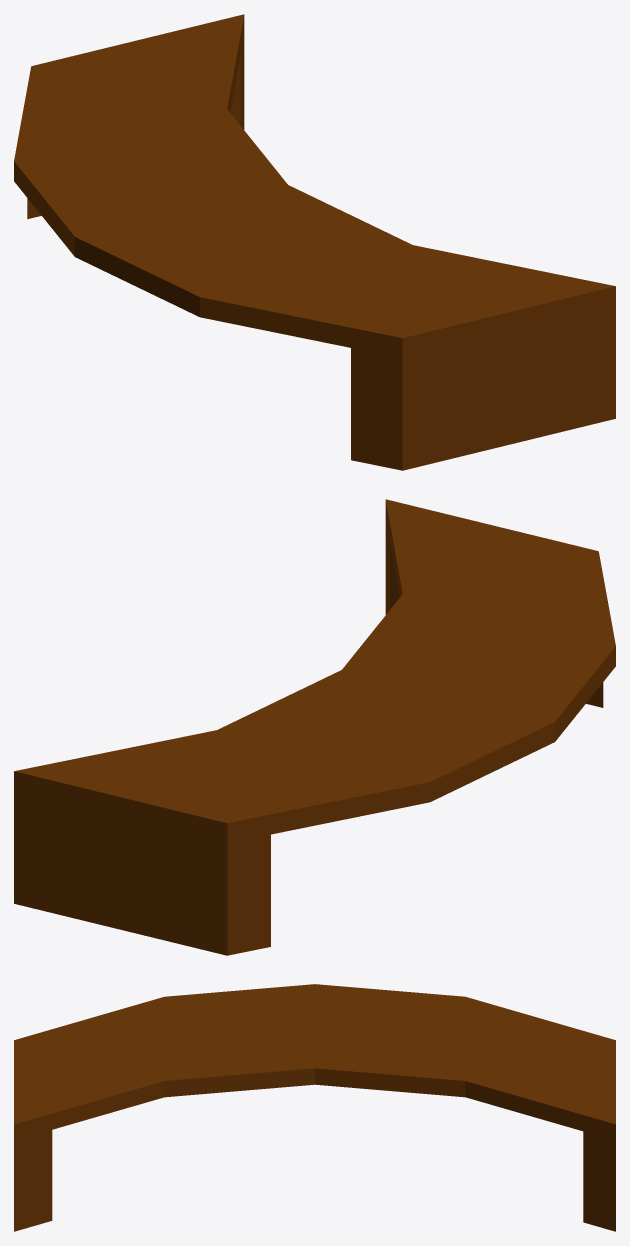
The model's file is desk.fbx.
3 views of the same model, one above another, from view 1: azimuth 30°, elevation 25°; view 2: azimuth 150°, elevation 25°; view 3: azimuth 270°, elevation 25° (orthographic). The views are drawn at different scales.
Visible parts, largest first — view 1: Plane; view 2: Plane; view 3: Plane.
Part boxes in pixels (x1,y1,x2,y2): Plane: [14, 14, 615, 470]; Plane: [14, 499, 615, 955]; Plane: [14, 984, 615, 1231].
Bounding box in the file's own units: 2.11 × 3.82 × 0.7521.
